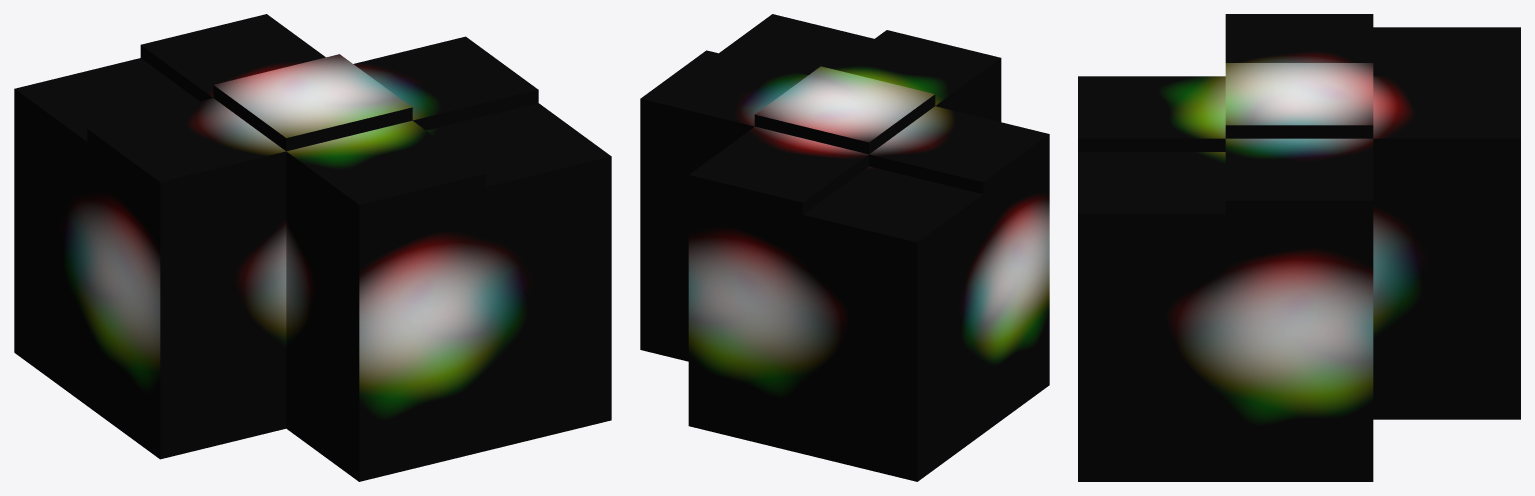
The model's file is SM_VoidPuddle.glb.
3 views of the same model, side by side, from view 1: azimuth 30°, elevation 25°; view 2: azimuth 150°, elevation 25°; view 3: azimuth 270°, elevation 25° (orthographic). The views are drawn at different scales.
Parts seen in each view (by area): view 1: SM_VoidPuddle.001; view 2: SM_VoidPuddle.001; view 3: SM_VoidPuddle.001.
Boxes of the visible parts, x1,y1,x2,y2 form: SM_VoidPuddle.001: (14,14,611,481); SM_VoidPuddle.001: (640,14,1049,481); SM_VoidPuddle.001: (1078,14,1520,481).
Size of the model in its own units: 300 by 220 by 300.
1 material, 1 textured.
